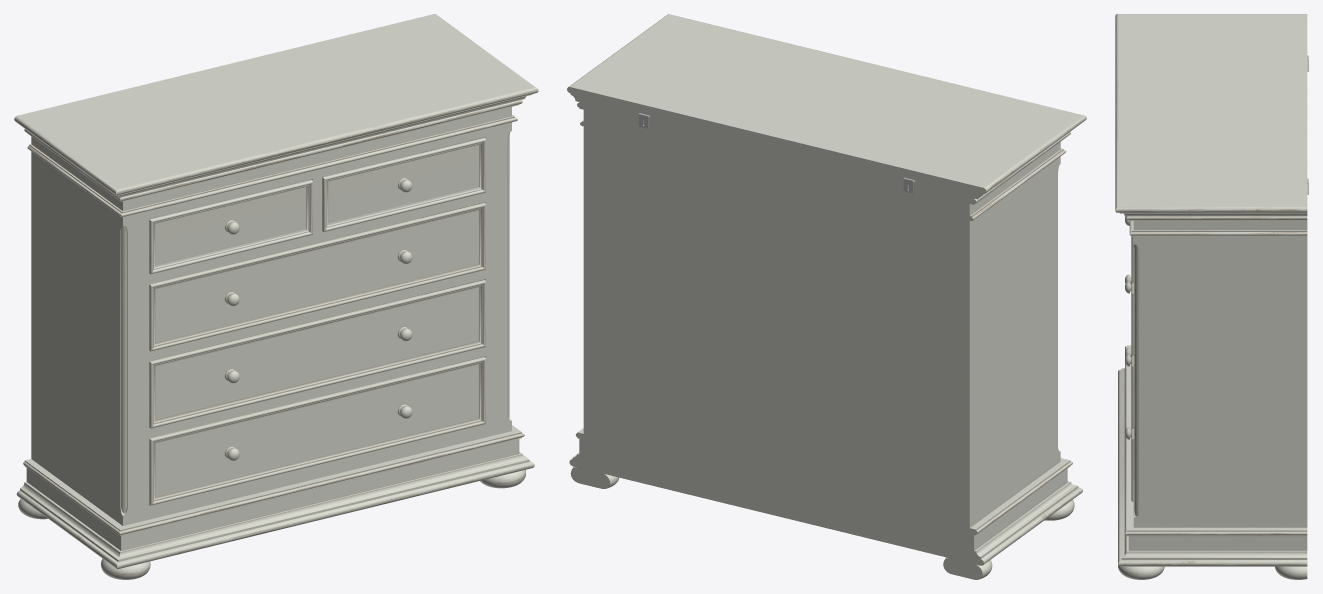
Rendered from example136.gltf.
3 renders of one model, left to right at view 1: azimuth 30°, elevation 25°; view 2: azimuth 150°, elevation 25°; view 3: azimuth 270°, elevation 25°, orthographic. The views are drawn at different scales.
Size of the model in its own units: 113 by 102 by 47.29.
2 materials, 1 textured.
